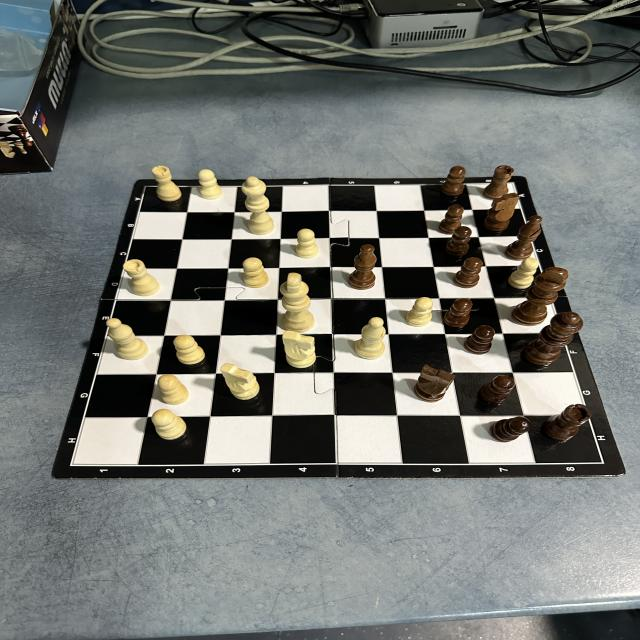Black-Bishop: (504, 215, 542, 261), (348, 244, 377, 290)
Black-King: (511, 267, 568, 326)
Black-Knight: (413, 364, 456, 402), (484, 193, 520, 231)
Black-Pawn: (490, 416, 531, 443), (480, 375, 516, 403), (454, 257, 484, 288), (464, 325, 495, 355), (444, 298, 473, 328), (438, 204, 464, 235), (446, 226, 472, 257), (441, 166, 466, 196)
Black-Queen: (522, 311, 584, 365)
Black-Rook: (544, 404, 592, 441), (482, 165, 515, 201)
White-Bishop: (106, 318, 149, 360), (355, 316, 386, 359)
White-King: (280, 273, 314, 332)
White-Knight: (220, 363, 260, 400)
White-Pawn: (151, 408, 187, 441), (157, 374, 189, 405), (173, 335, 206, 365), (508, 258, 538, 290), (405, 297, 434, 327), (242, 257, 270, 288), (198, 169, 223, 200), (295, 228, 319, 259)
White-Queen: (241, 176, 274, 235)
White-Rook: (123, 259, 160, 297), (152, 165, 182, 202)
